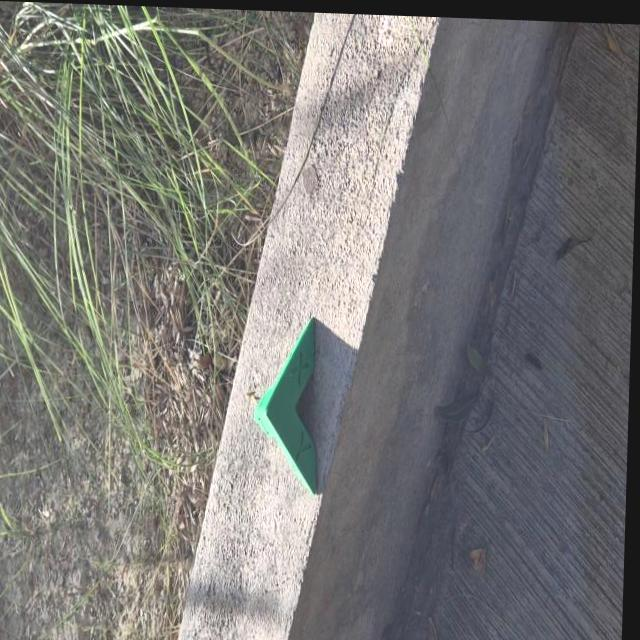eje: (250, 312, 324, 498)
